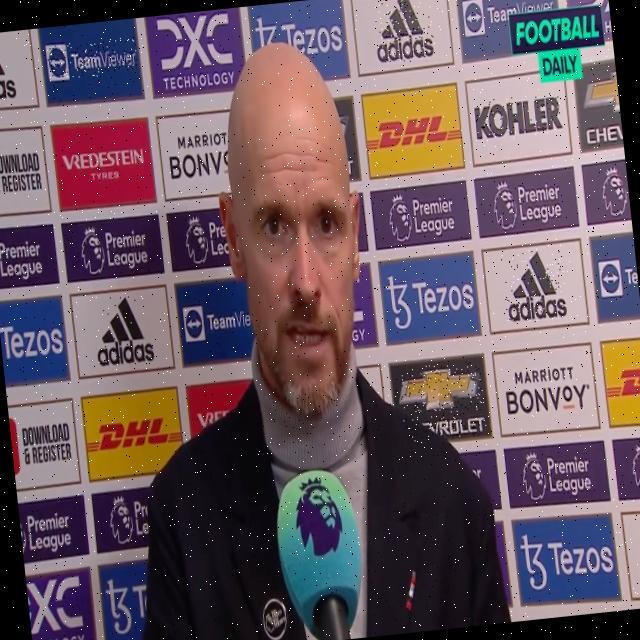Adidas: (500, 245, 569, 326), (90, 291, 156, 370), (371, 0, 435, 64)
Chevrolet: (397, 360, 487, 443)
Kohler: (472, 92, 564, 143)
TeamViewer: (46, 36, 138, 82)
